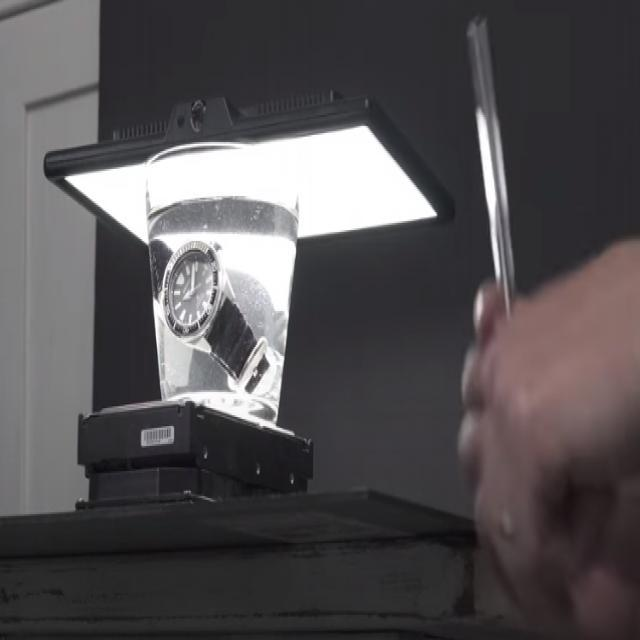Watch: (147, 231, 275, 393)
